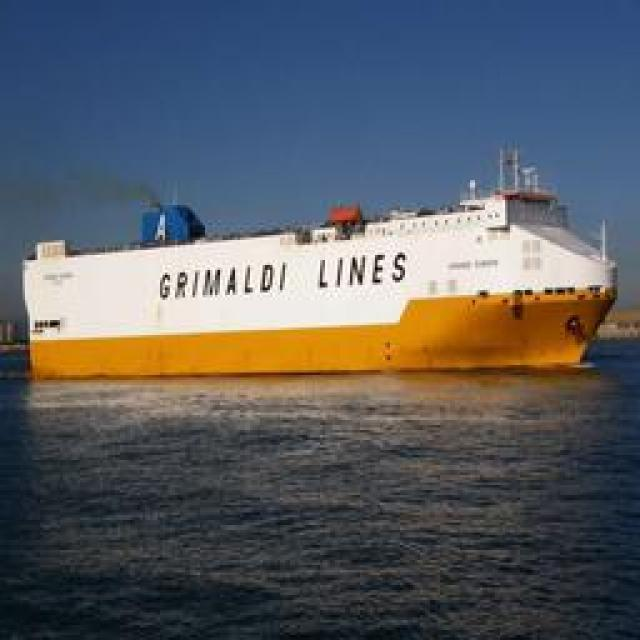CIV_Ship: (27, 150, 615, 380)
